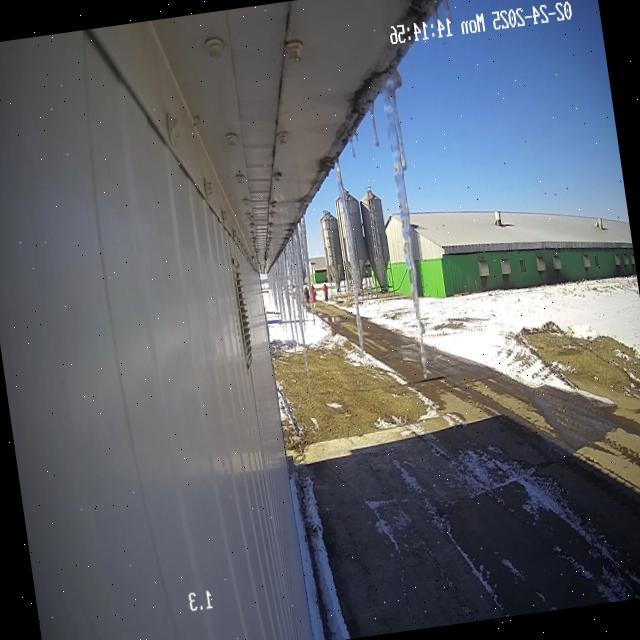Red uniform: (304, 282, 311, 311), (310, 285, 316, 308), (323, 283, 329, 302)
